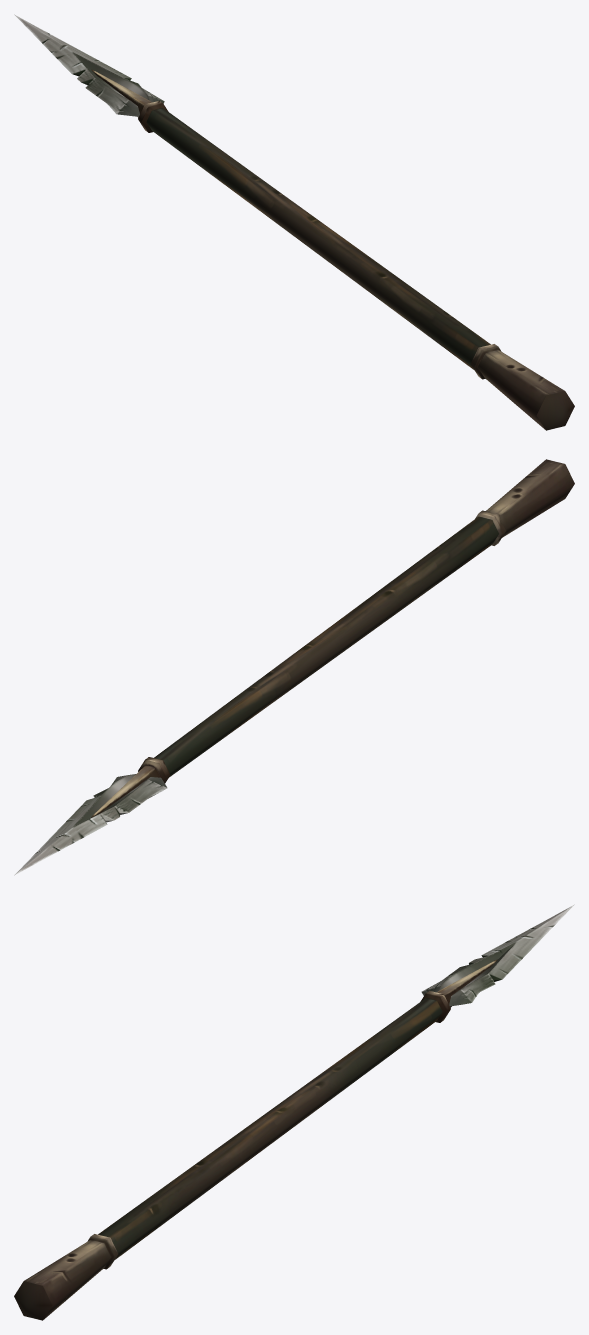
File: Spear04.fbx
The picture shows the model from 3 angles, top to bottom: view 1: azimuth 30°, elevation 25°; view 2: azimuth 150°, elevation 25°; view 3: azimuth 330°, elevation 25°; orthographic projection.
Parts seen in each view (by area): view 1: Spear04_el2, Spear04_el1; view 2: Spear04_el2, Spear04_el1; view 3: Spear04_el2, Spear04_el1.
Part boxes in pixels (x1,y1,x2,y2): Spear04_el2: [138, 100, 574, 430]; Spear04_el1: [14, 14, 164, 117]; Spear04_el2: [138, 459, 574, 783]; Spear04_el1: [14, 765, 167, 875]; Spear04_el2: [14, 990, 450, 1320]; Spear04_el1: [421, 904, 574, 1007].
Size of the model in its own units: 0.1398 by 0.0942 by 2.69.
